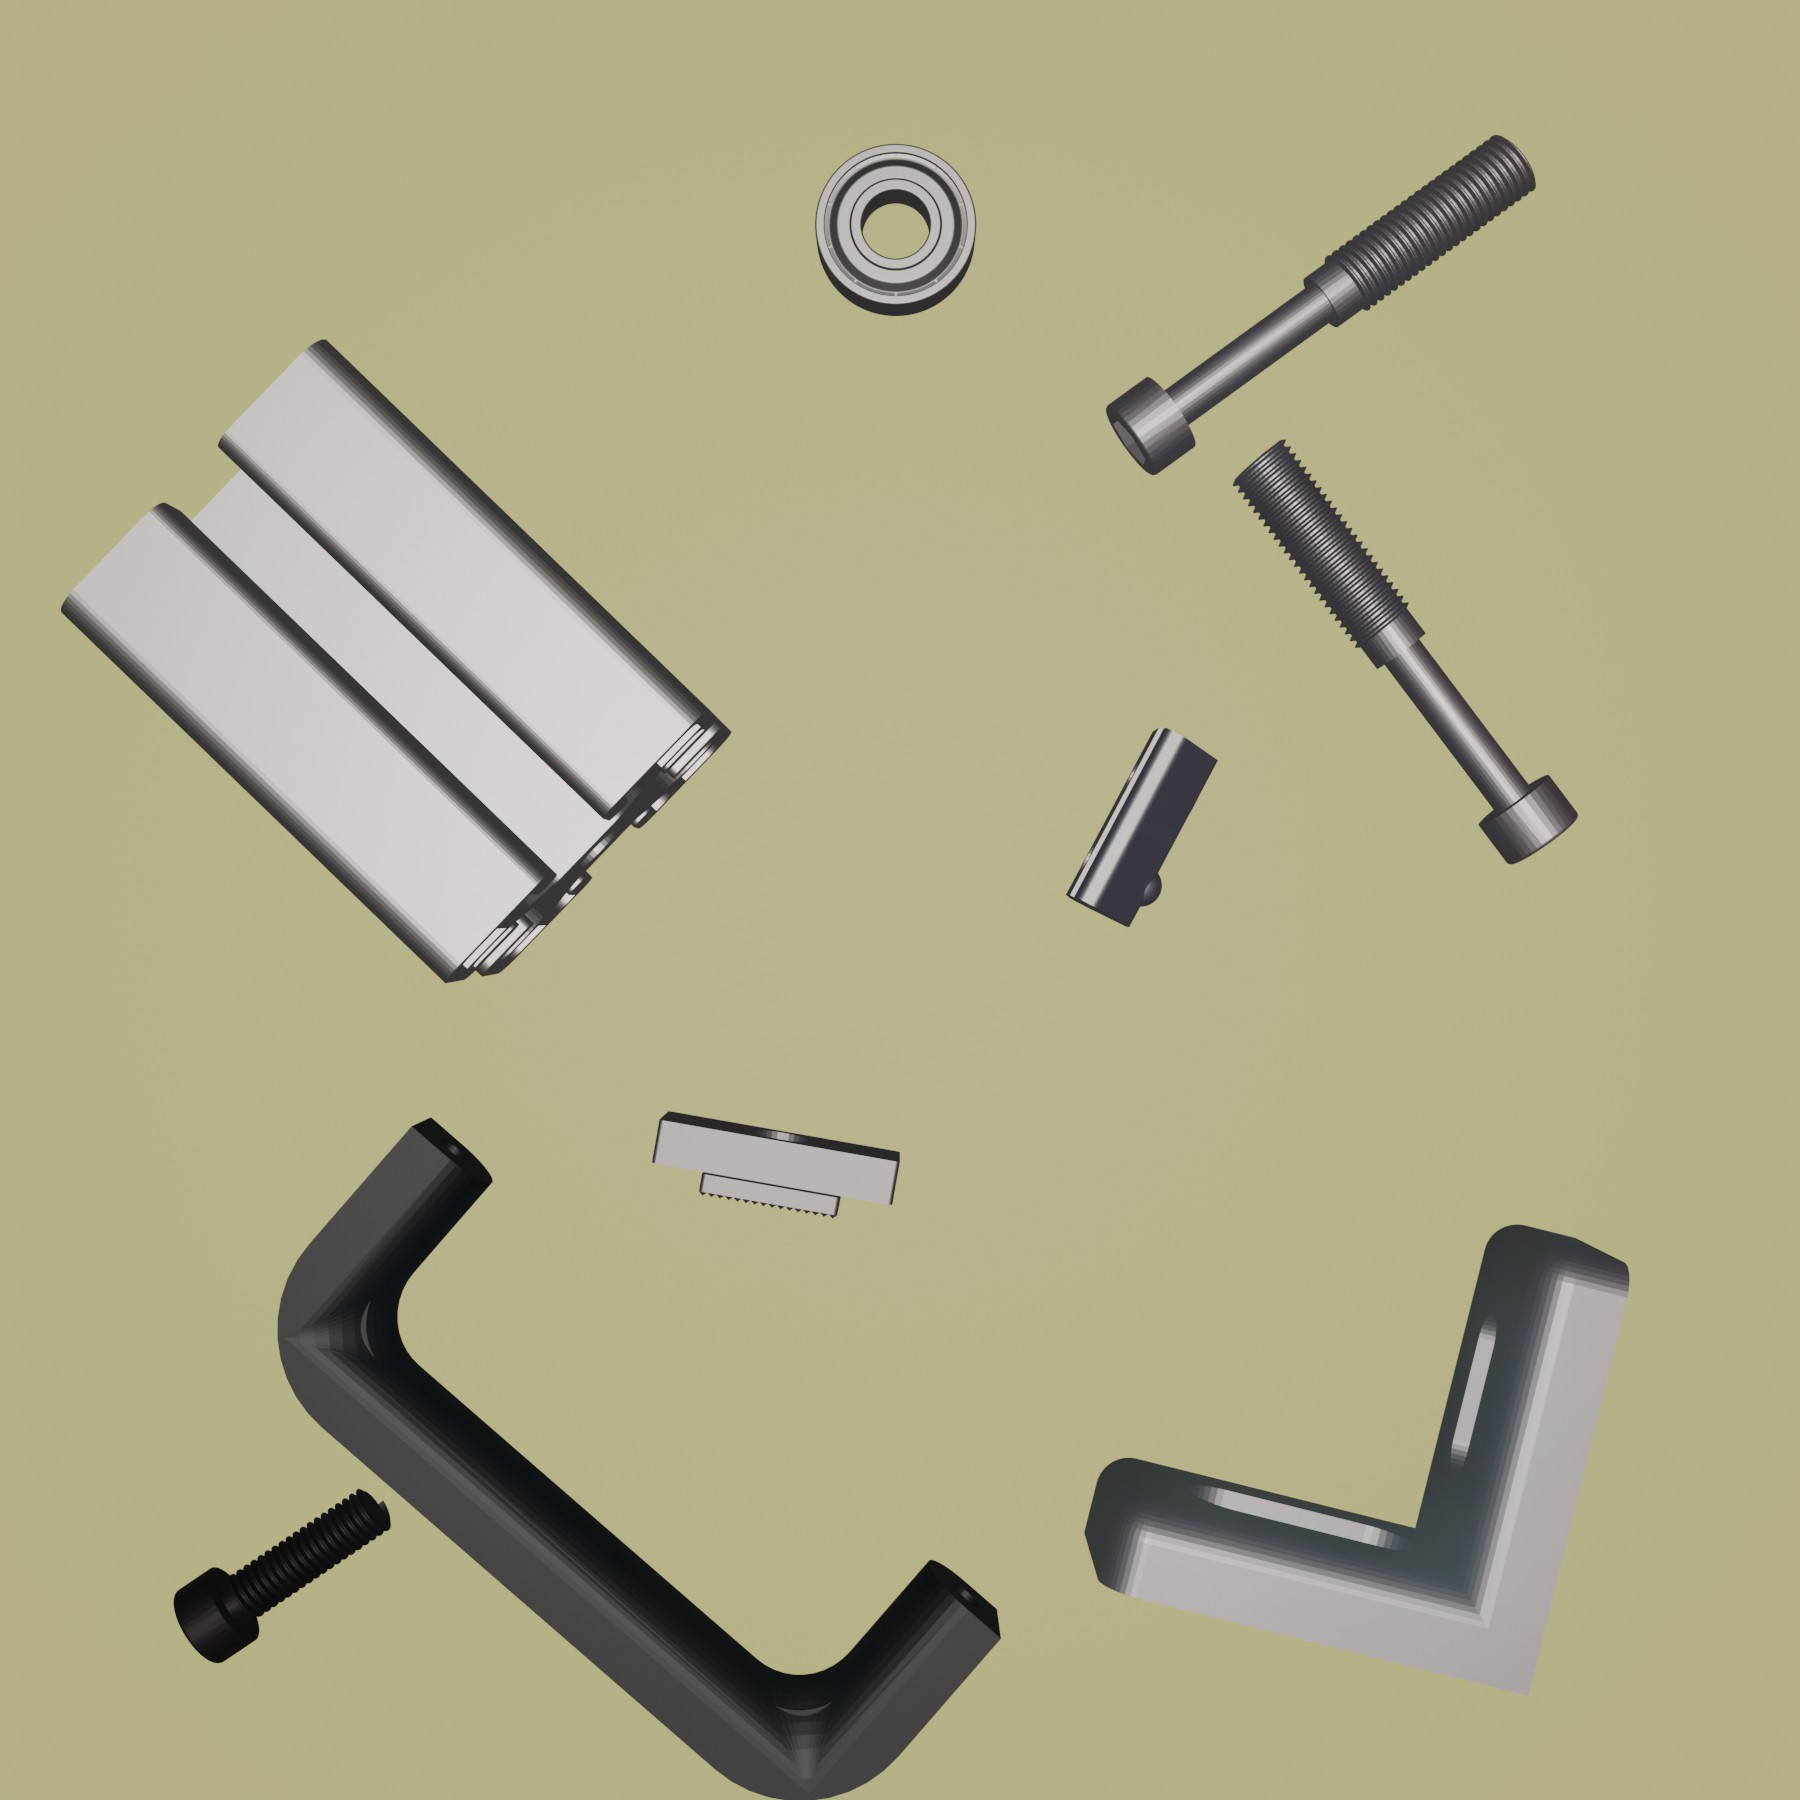Aluminium Extension: (56, 340, 735, 986)
Ball Bearing: (809, 138, 977, 318)
Multiwinkel: (1085, 1221, 1632, 1698)
Pull Handle: (275, 1116, 1004, 1800)
Shoulder Socket Head Cap Screw: (1230, 437, 1581, 869), (1104, 134, 1540, 476)
Socket Head Cap Screw: (171, 1485, 392, 1665)
T Nut Square: (648, 1108, 903, 1225)
T Spring Nut: (1062, 724, 1221, 930)
